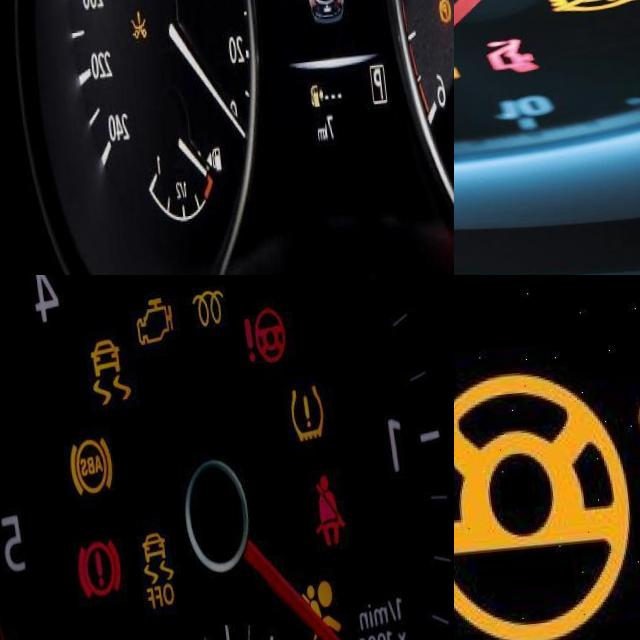Electronic Power Steering: (233, 313, 289, 383)
Electronic Power Steering Warning: (454, 368, 640, 640)
Seat Belt: (300, 476, 342, 553)
